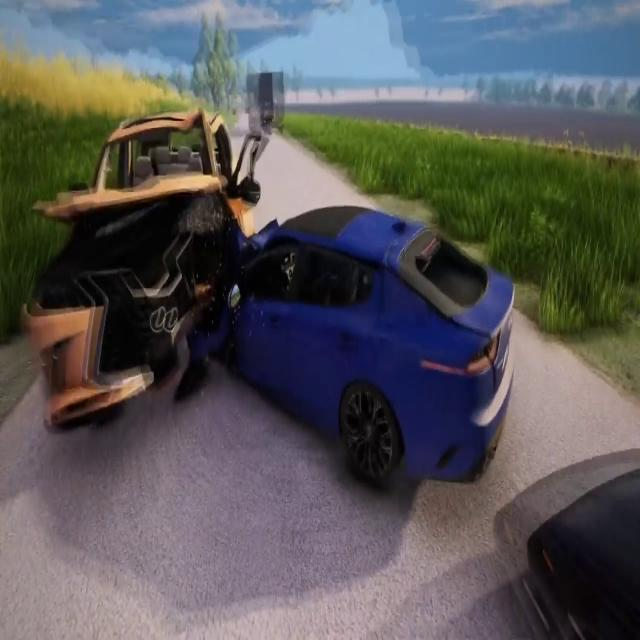accident: (20, 108, 521, 520)
